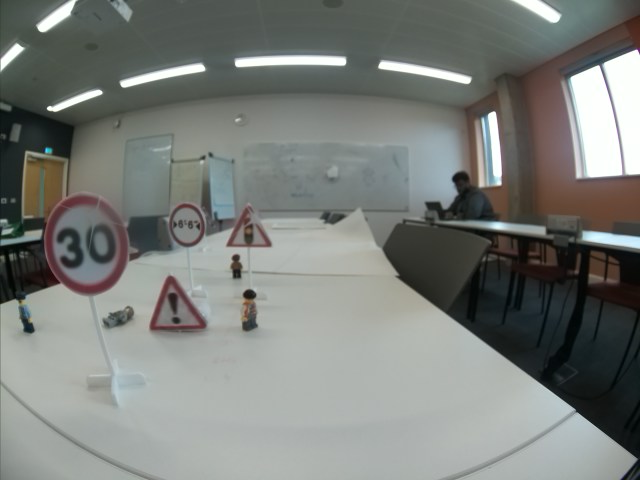30mph: (46, 187, 127, 297)
6ft6: (169, 202, 206, 248)
Lego Man: (13, 288, 38, 334), (240, 288, 261, 331), (103, 305, 135, 327), (230, 251, 245, 280)
Traffic lights: (225, 203, 274, 248)
Warning: (148, 273, 209, 331)
